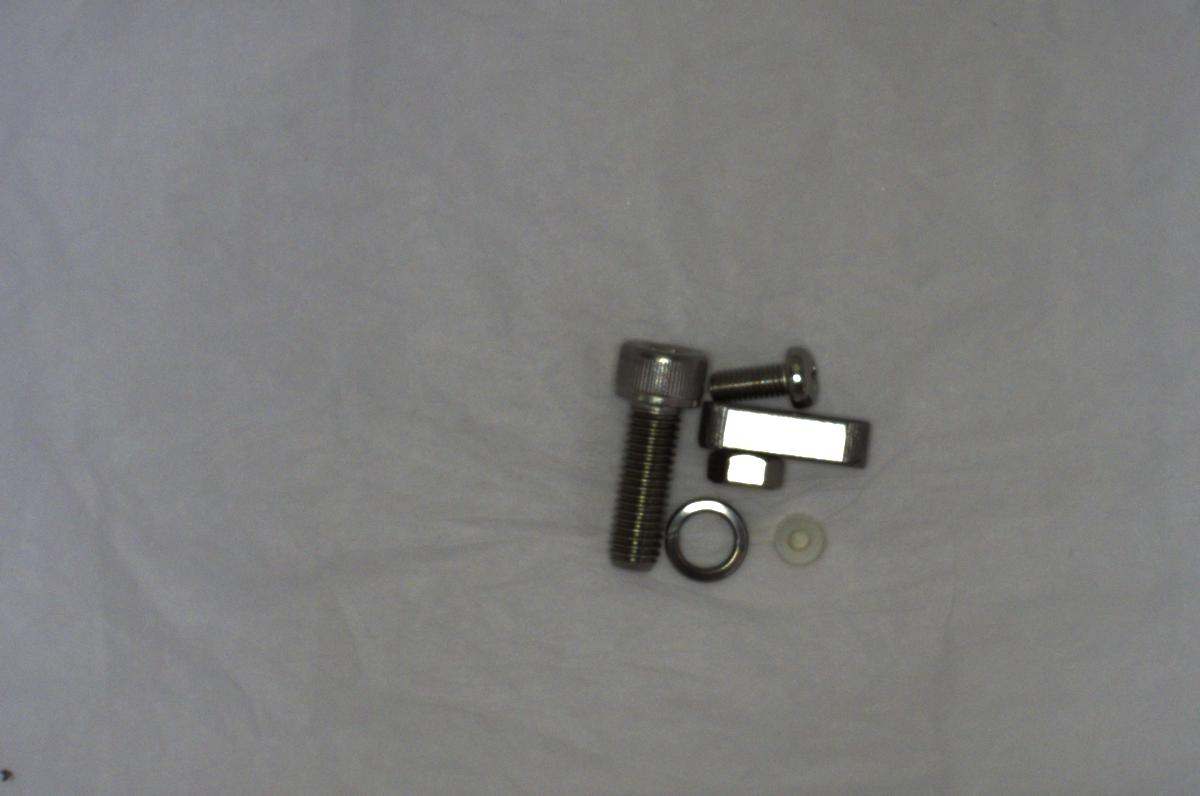Hexagon nut: (692, 446, 792, 496)
Hexagon screw: (582, 327, 708, 573)
Keybar: (693, 395, 883, 473)
Plastic cushion pillar: (762, 506, 829, 569)
Round head screw: (701, 339, 820, 406)
Spring washer: (665, 491, 753, 585)
